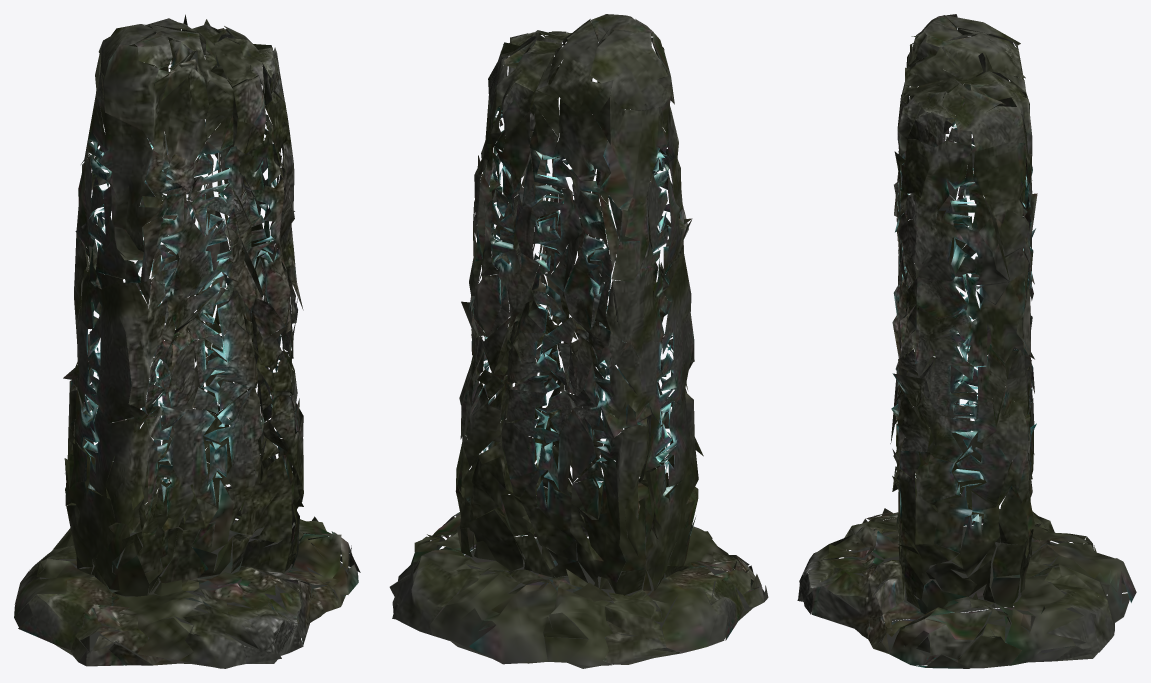
Rendered from runestone.glb.
The picture shows the model from 3 angles, left to right: view 1: azimuth 30°, elevation 25°; view 2: azimuth 150°, elevation 25°; view 3: azimuth 270°, elevation 25°; orthographic projection. The views are drawn at different scales.
Parts seen in each view (by area): view 1: Mesh_0; view 2: Mesh_0; view 3: Mesh_0.
Part boxes in pixels (x1,y1,x2,y2): Mesh_0: (14,14,360,668); Mesh_0: (389,14,768,668); Mesh_0: (797,14,1136,668).
Size of the model in its own units: 1.51 by 2.7 by 1.48.
Materials: 1 (1 with a texture image).
